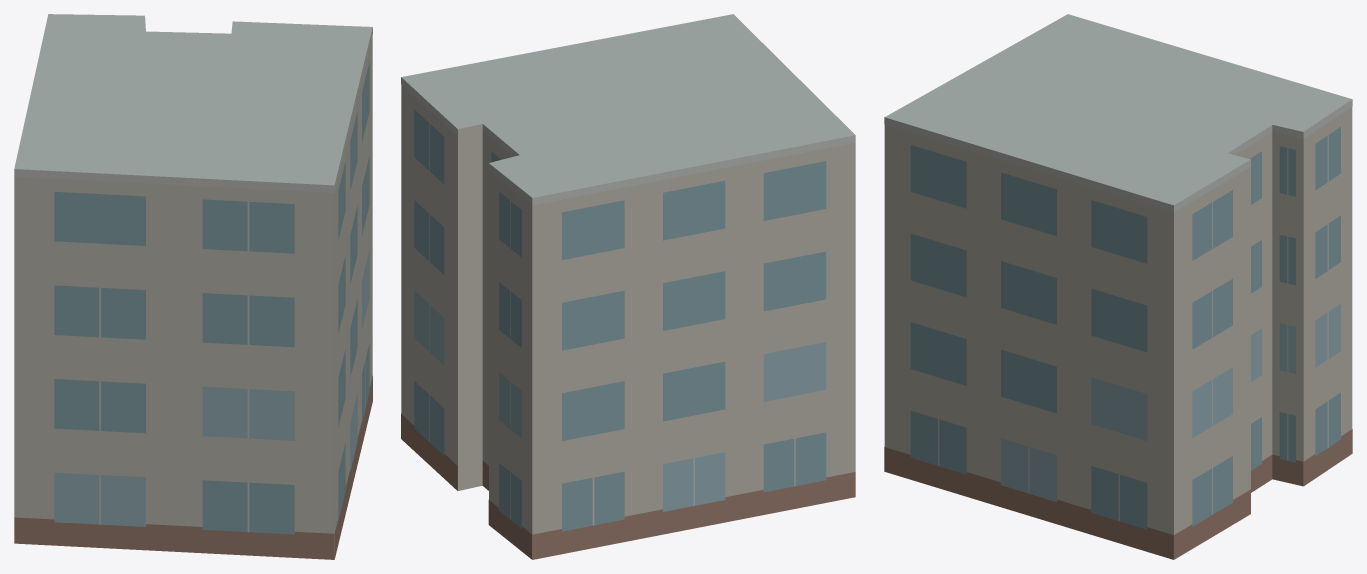
File: survey-upis-32975258.glb
3 renders of one model, left to right at view 1: azimuth 30°, elevation 25°; view 2: azimuth 150°, elevation 25°; view 3: azimuth 270°, elevation 25°, orthographic. The views are drawn at different scales.
Visible parts, largest first — view 1: survey-upis-32975258.tmp; view 2: survey-upis-32975258.tmp; view 3: survey-upis-32975258.tmp.
Part boxes in pixels (<box>): survey-upis-32975258.tmp: <box>14,14,372,559</box>; survey-upis-32975258.tmp: <box>401,14,855,559</box>; survey-upis-32975258.tmp: <box>884,14,1352,559</box>.
Size of the model in its own units: 14.14 by 12.2 by 14.6.
